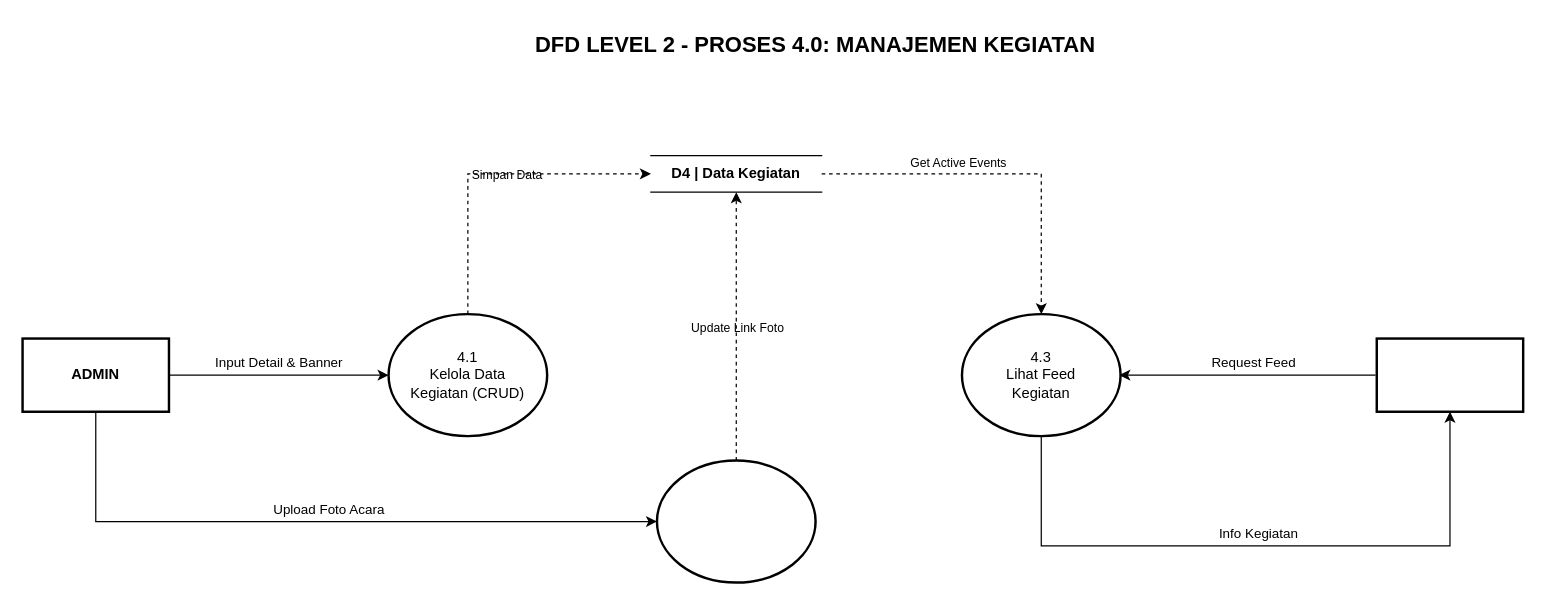
Image size: 1545x604. Some labels were removed from this diagram. The shapes that lost their labels are listed below. From the top down, each one's centre as x and y in pixels, then its label:
At (x=1449, y=374): "WARGA".
At (x=735, y=521): "4.2 Update Dokumentasi".
